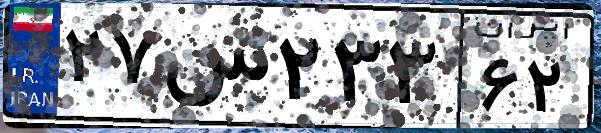2: (270, 28, 330, 110), (57, 26, 110, 100), (525, 38, 570, 115)
3: (385, 28, 445, 110), (330, 28, 385, 110)
6: (475, 38, 525, 113)
7: (110, 28, 158, 98)
س: (158, 20, 270, 120)
